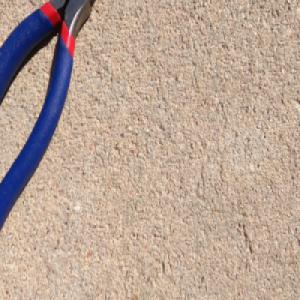Pliers: (0, 0, 103, 239)
